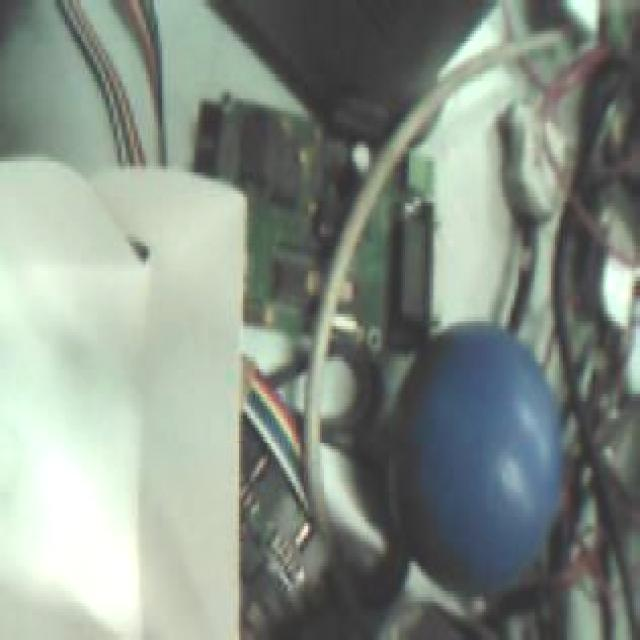BallPurple: (388, 320, 561, 598)
